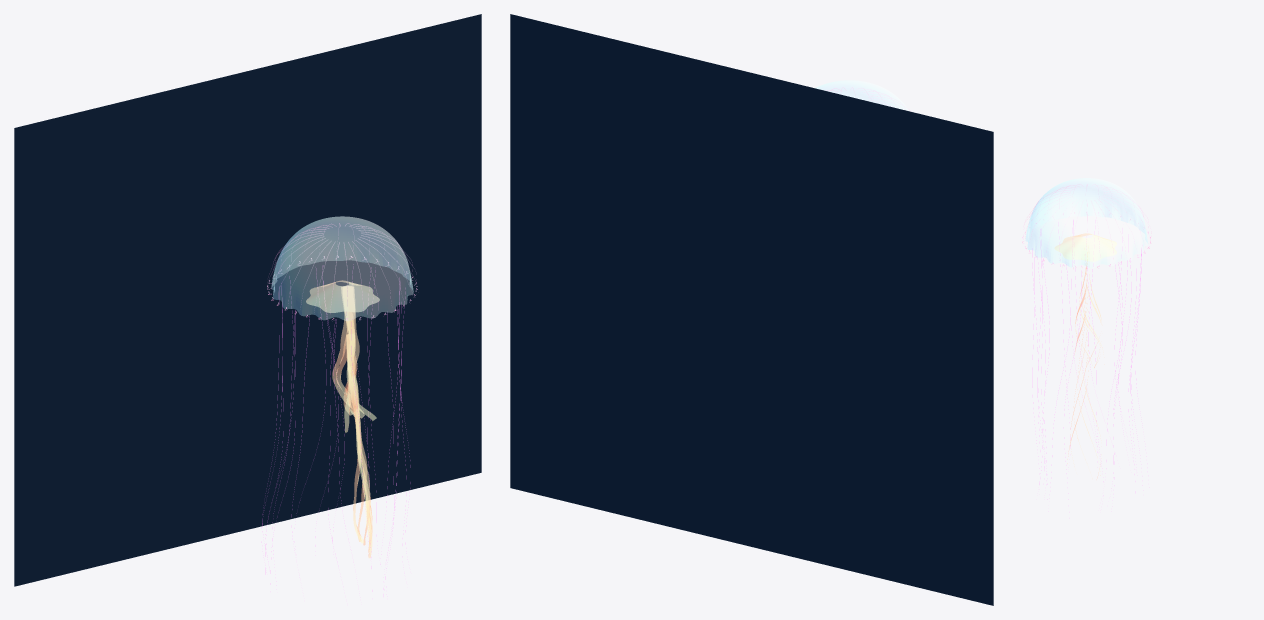
The model's file is jellyfish_candidate.glb.
3 views of the same model, side by side, from view 1: azimuth 30°, elevation 25°; view 2: azimuth 150°, elevation 25°; view 3: azimuth 270°, elevation 25° (orthographic). The views are drawn at different scales.
Visible parts, largest first — view 1: reference_jellyfish_dark_water_backdrop, reference_jellyfish_bell, reference_jellyfish_oral_arms, reference_jellyfish_trailing_oral_tail, reference_jellyfish_long_tentacles, reference_jellyfish_warm_inner_glow; view 2: reference_jellyfish_dark_water_backdrop, reference_jellyfish_bell; view 3: reference_jellyfish_bell, reference_jellyfish_long_tentacles, reference_jellyfish_warm_inner_glow, reference_jellyfish_oral_arms.
Boxes of the visible parts, box(x1,y1,x2,y2) form: reference_jellyfish_dark_water_backdrop: box(14, 14, 481, 586); reference_jellyfish_bell: box(271, 216, 413, 320); reference_jellyfish_oral_arms: box(332, 286, 376, 432); reference_jellyfish_trailing_oral_tail: box(346, 334, 372, 557); reference_jellyfish_long_tentacles: box(261, 281, 410, 596); reference_jellyfish_warm_inner_glow: box(306, 280, 379, 312); reference_jellyfish_dark_water_backdrop: box(510, 14, 993, 605); reference_jellyfish_bell: box(815, 80, 908, 110); reference_jellyfish_bell: box(1025, 178, 1147, 267); reference_jellyfish_long_tentacles: box(1032, 220, 1142, 499); reference_jellyfish_warm_inner_glow: box(1054, 233, 1116, 261); reference_jellyfish_oral_arms: box(1074, 261, 1102, 367).
Size of the model in its own units: 8 by 7.5 by 3.91.
